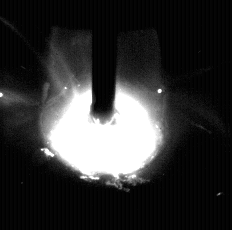arame: (92, 0, 117, 125)
poca: (39, 0, 169, 230)
